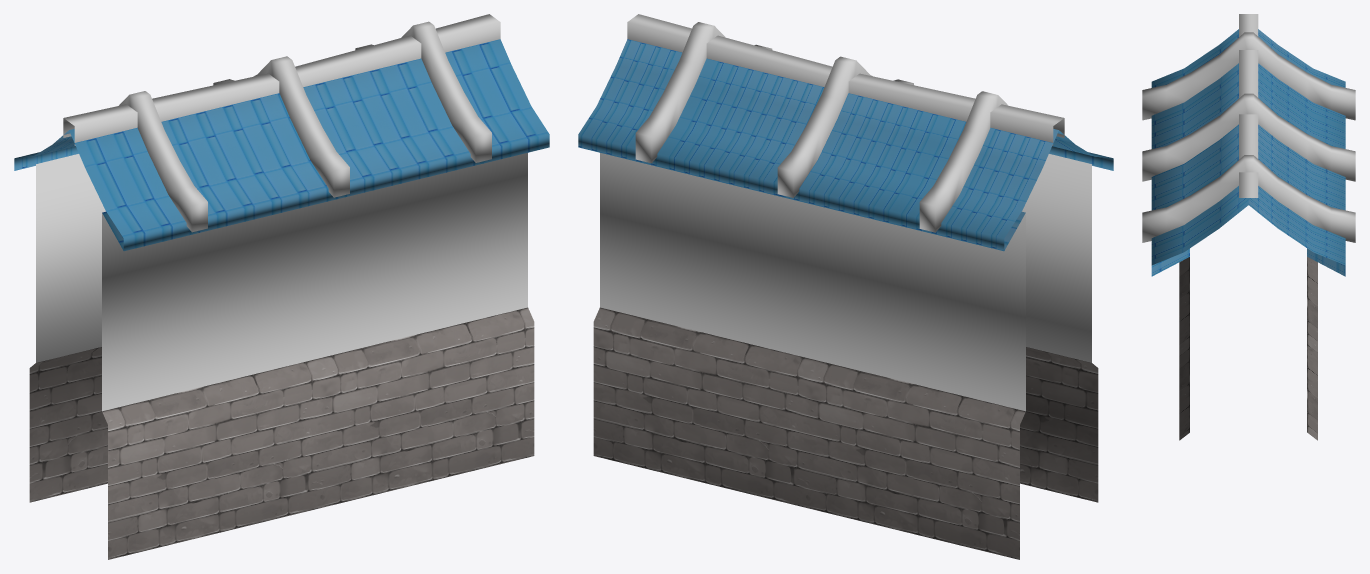
Rendered from GardenWall_3.fbx.
3 renders of one model, left to right at view 1: azimuth 30°, elevation 25°; view 2: azimuth 150°, elevation 25°; view 3: azimuth 270°, elevation 25°, orthographic. The views are drawn at different scales.
Visible parts, largest first — view 1: GardenWall_3; view 2: GardenWall_3; view 3: GardenWall_3.
Boxes of the visible parts, x1=… form: GardenWall_3: x1=14, y1=14, x2=549, y2=559; GardenWall_3: x1=578, y1=14, x2=1113, y2=559; GardenWall_3: x1=1142, y1=14, x2=1355, y2=440.
Size of the model in its own units: 3 by 2.82 by 1.47.
